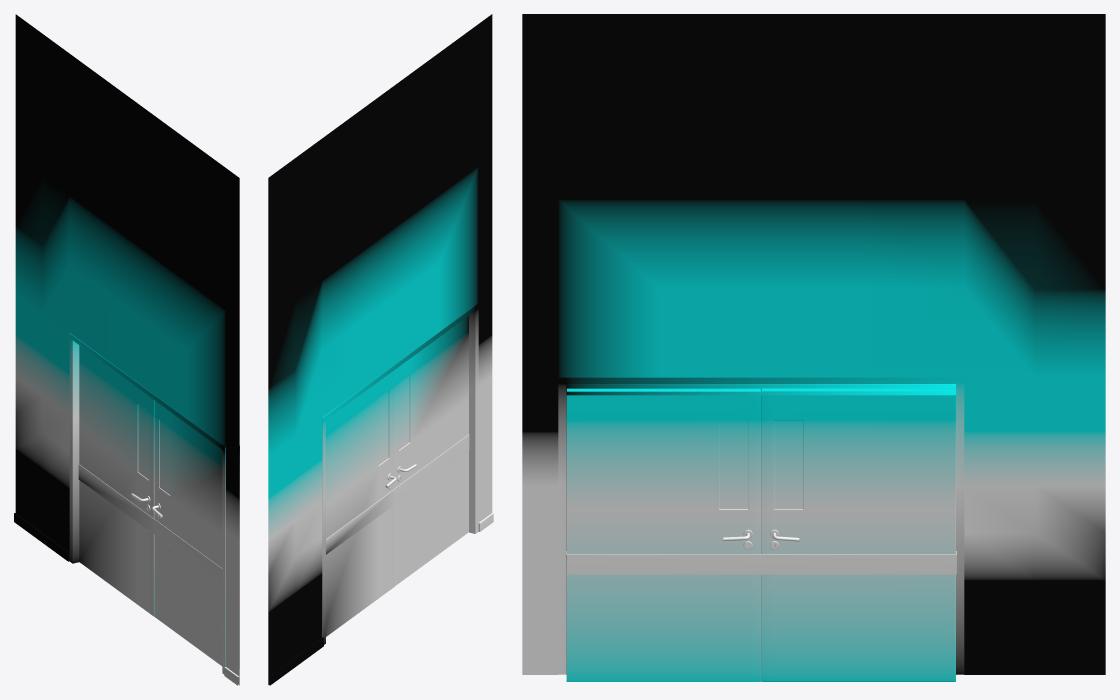
3 renders of one model, left to right at view 1: azimuth 30°, elevation 25°; view 2: azimuth 150°, elevation 25°; view 3: azimuth 270°, elevation 25°, orthographic. The views are drawn at different scales.
Parts seen in each view (by area): view 1: SM_Wall05_LOD0; view 2: SM_Wall05_LOD0; view 3: SM_Wall05_LOD0.
Part boxes in pixels (x1,y1,x2,y2): SM_Wall05_LOD0: [14, 14, 239, 685]; SM_Wall05_LOD0: [268, 14, 493, 685]; SM_Wall05_LOD0: [522, 14, 1105, 681].
Bounding box in the file's own units: 22.52 × 400 × 500.
